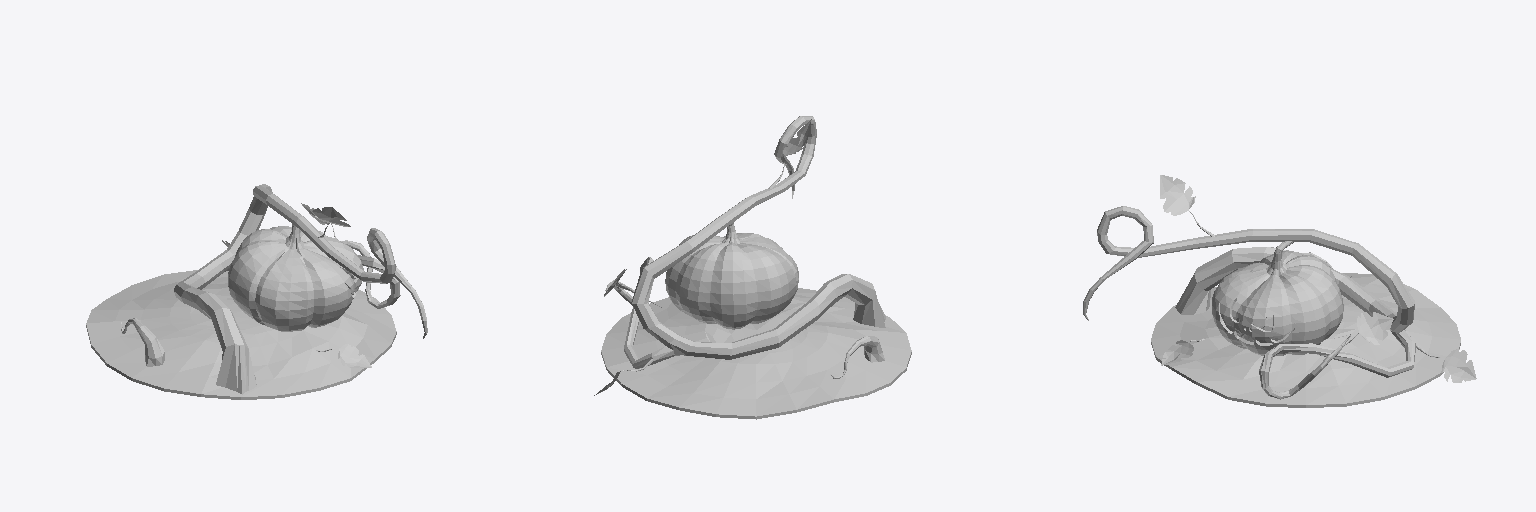
File: pump.obj
3 renders of one model, left to right at view 1: azimuth 30°, elevation 25°; view 2: azimuth 150°, elevation 25°; view 3: azimuth 270°, elevation 25°, orthographic.
Parts seen in each view (by area): view 1: pump; view 2: pump; view 3: pump.
Boxes of the visible parts, box(x1,y1,x2,y2) form: pump: box(86, 184, 427, 399); pump: box(594, 116, 911, 419); pump: box(1083, 175, 1476, 407).
Bounding box in the file's own units: 4.8 × 3.01 × 6.01.